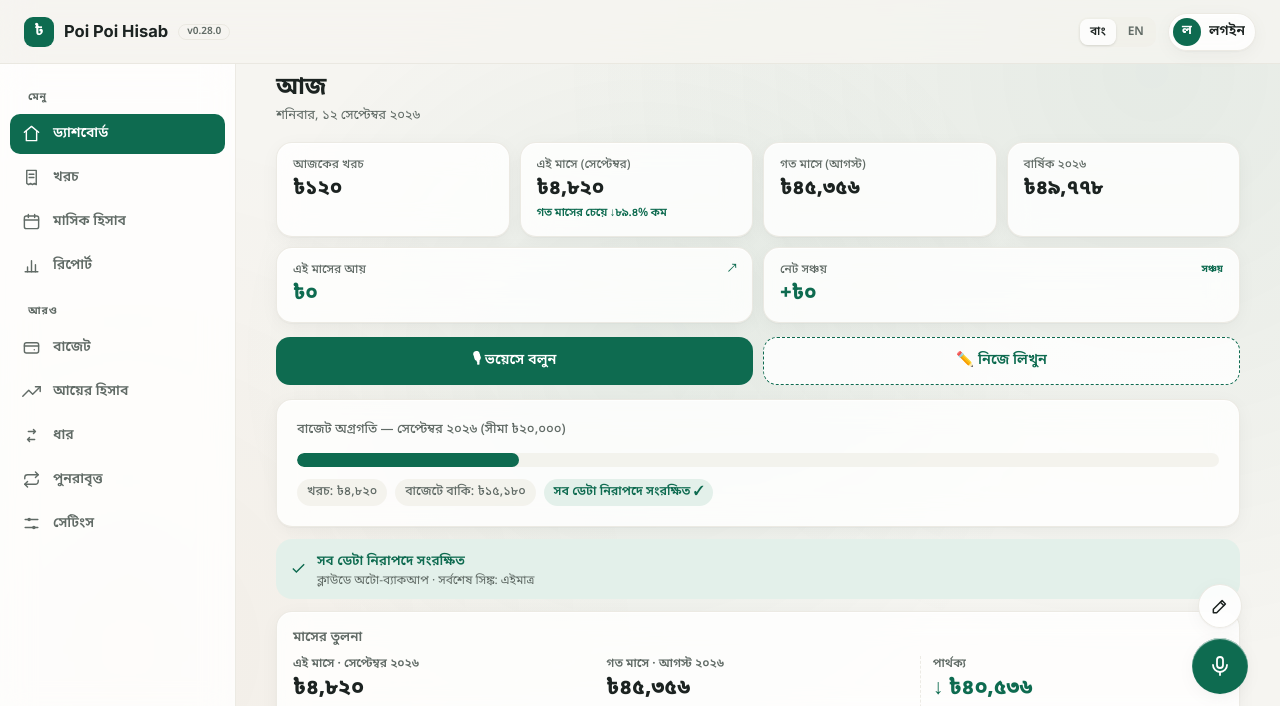
AppShell › moves focus to <main> on route change so SR users get page context (SC 2.4.3)
Click the link "ধার" at (32, 436), box [22,426,74,445]
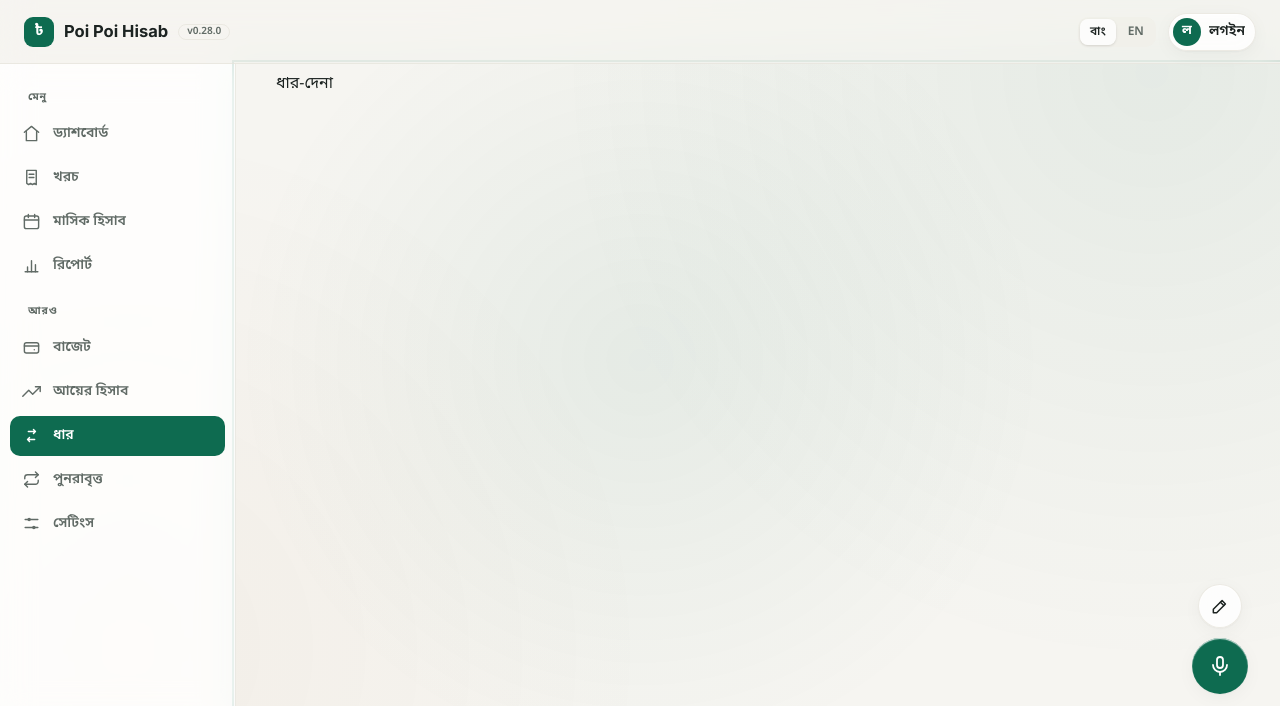
Check: the text "ধার-দেনা" is shown, box [276,73,333,95]
